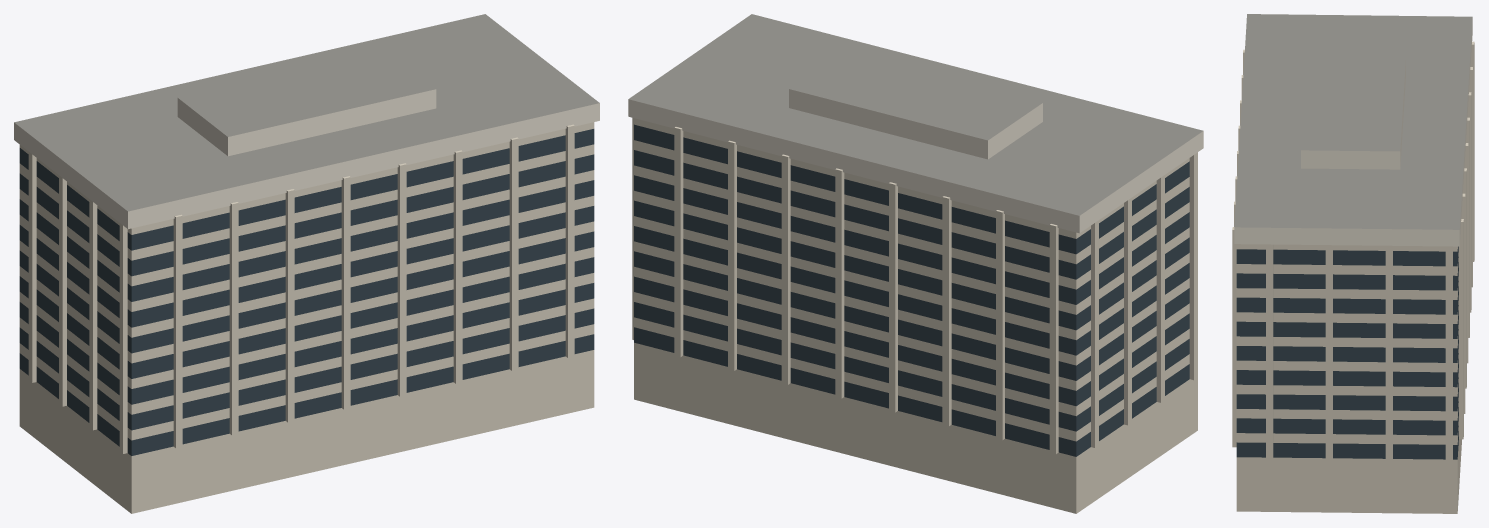
The model's file is nobu_hotel_at_caesars_w134949402.glb.
3 renders of one model, left to right at view 1: azimuth 30°, elevation 25°; view 2: azimuth 150°, elevation 25°; view 3: azimuth 270°, elevation 25°, orthographic. The views are drawn at different scales.
Visible parts, largest first — view 1: Hotel_Slab; view 2: Hotel_Slab; view 3: Hotel_Slab.
Boxes of the visible parts, x1,y1,x2,y2 form: Hotel_Slab: (14,14,599,513); Hotel_Slab: (628,14,1203,513); Hotel_Slab: (1232,14,1474,513).
Bounding box in the file's own units: 63.9 × 42 × 30.29.
